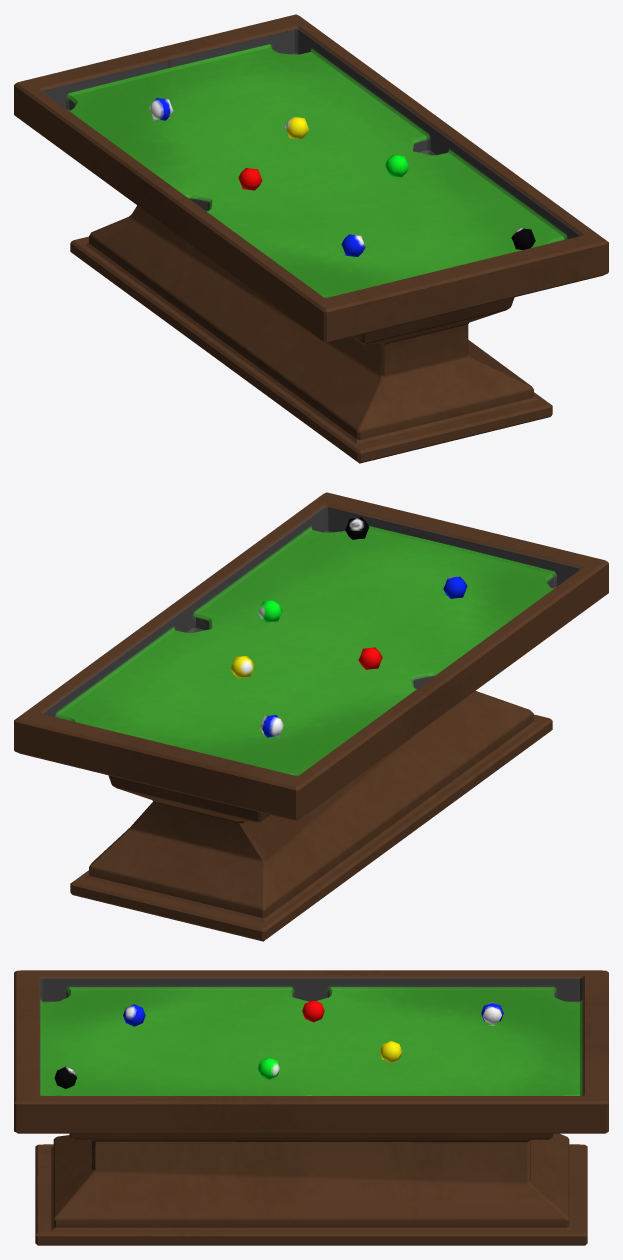
Rendered from billiard table.fbx.
3 renders of one model, top to bottom at view 1: azimuth 30°, elevation 25°; view 2: azimuth 150°, elevation 25°; view 3: azimuth 270°, elevation 25°, orthographic. The views are drawn at different scales.
Parts seen in each view (by area): view 1: polySurface438; view 2: polySurface438; view 3: polySurface438.
Boxes of the visible parts, x1=… form: polySurface438: x1=14, y1=14, x2=608, y2=463; polySurface438: x1=14, y1=492, x2=608, y2=941; polySurface438: x1=14, y1=970, x2=608, y2=1245.
Bounding box in the file's own units: 1.36 × 0.8245 × 2.58.
Materials: 1 (1 with a texture image).
